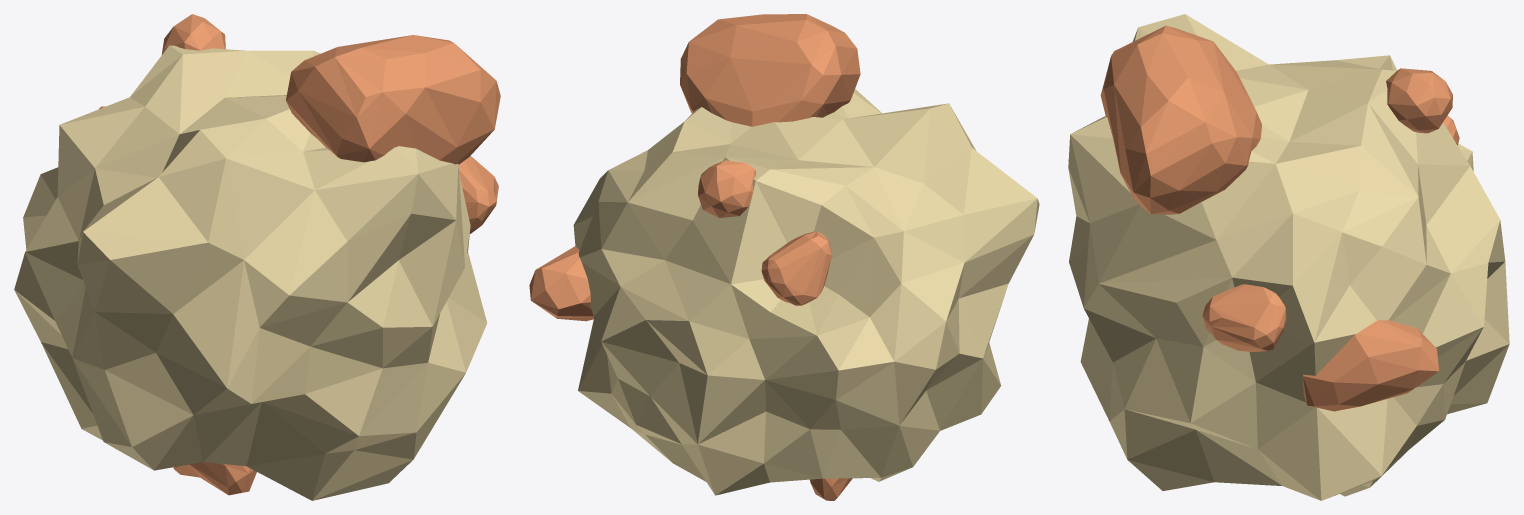
Rendered from StoneOre (15).fbx.
3 renders of one model, left to right at view 1: azimuth 30°, elevation 25°; view 2: azimuth 150°, elevation 25°; view 3: azimuth 270°, elevation 25°, orthographic. The views are drawn at different scales.
Visible parts, largest first — view 1: Asteroid302; view 2: Asteroid302; view 3: Asteroid302.
Part boxes in pixels (bbox=[...]): Asteroid302: bbox=[14, 14, 500, 500]; Asteroid302: bbox=[529, 14, 1039, 500]; Asteroid302: bbox=[1068, 14, 1509, 500].
Size of the model in its own units: 379 by 366 by 317.
